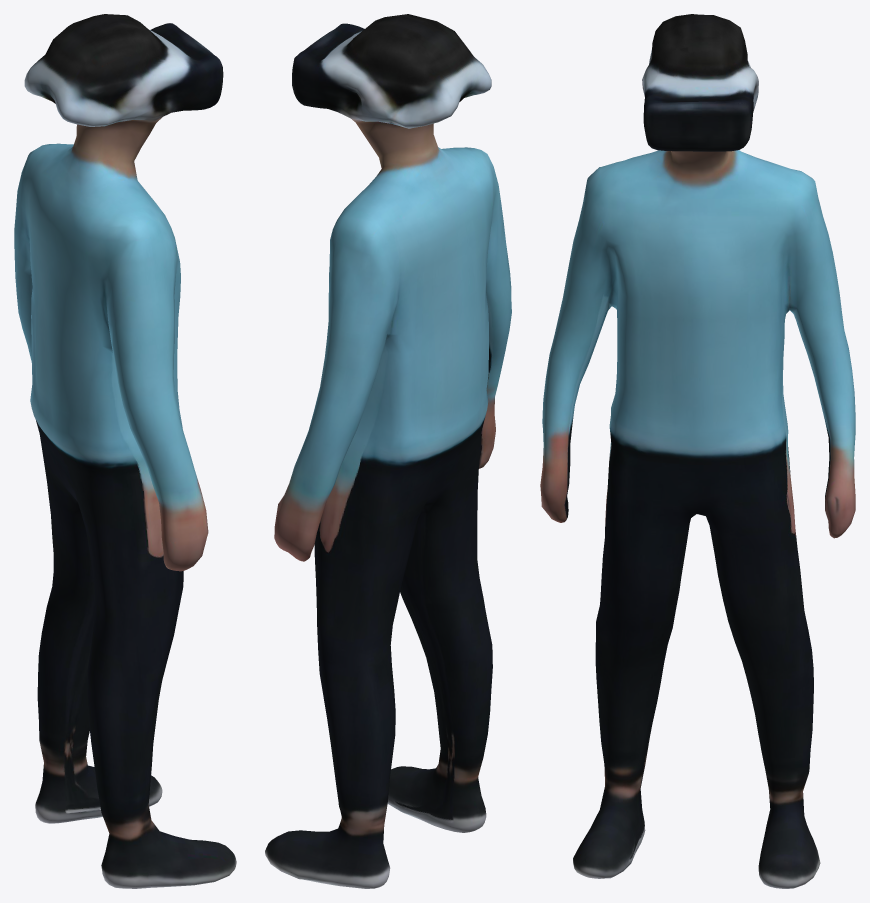
Rendered from person.glb.
3 views of the same model, side by side, from view 1: azimuth 30°, elevation 25°; view 2: azimuth 150°, elevation 25°; view 3: azimuth 270°, elevation 25° (orthographic).
Visible parts, largest first — view 1: mesh; view 2: mesh; view 3: mesh.
Part boxes in pixels (x1=…): mesh: x1=14, y1=14, x2=236, y2=888; mesh: x1=265, y1=14, x2=511, y2=888; mesh: x1=540, y1=14, x2=855, y2=888.
Bounding box in the file's own units: 0.2009 × 0.9986 × 0.344.
Materials: 1 (1 with a texture image).
